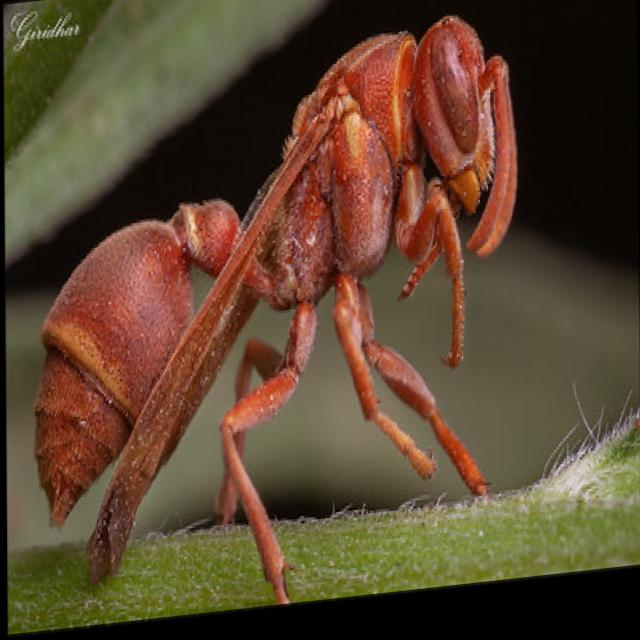Guepe: (29, 10, 551, 635)
